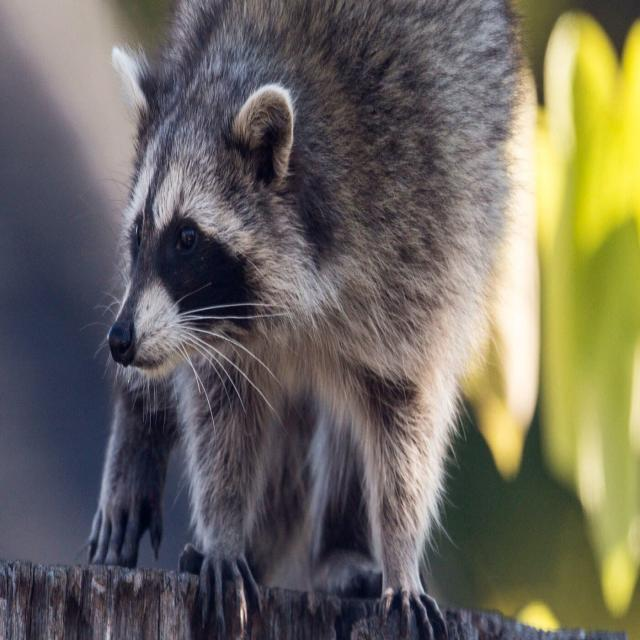Raccoon: (96, 0, 516, 618)
